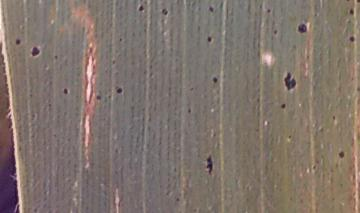tarspot: (282, 70, 296, 92), (203, 152, 214, 176), (28, 44, 42, 57), (296, 22, 308, 34), (160, 7, 170, 17), (13, 37, 22, 46), (115, 86, 124, 95), (347, 7, 356, 16), (207, 4, 215, 14), (211, 75, 219, 85), (337, 149, 345, 159), (348, 34, 356, 44), (61, 86, 69, 95), (137, 4, 145, 13), (205, 34, 213, 43), (264, 5, 272, 14), (185, 106, 193, 114), (95, 94, 103, 101), (280, 102, 287, 110), (330, 113, 337, 121), (52, 53, 59, 60), (272, 28, 279, 35), (174, 195, 180, 202), (286, 134, 293, 140), (32, 207, 38, 213), (118, 37, 124, 43), (355, 1, 360, 3)
